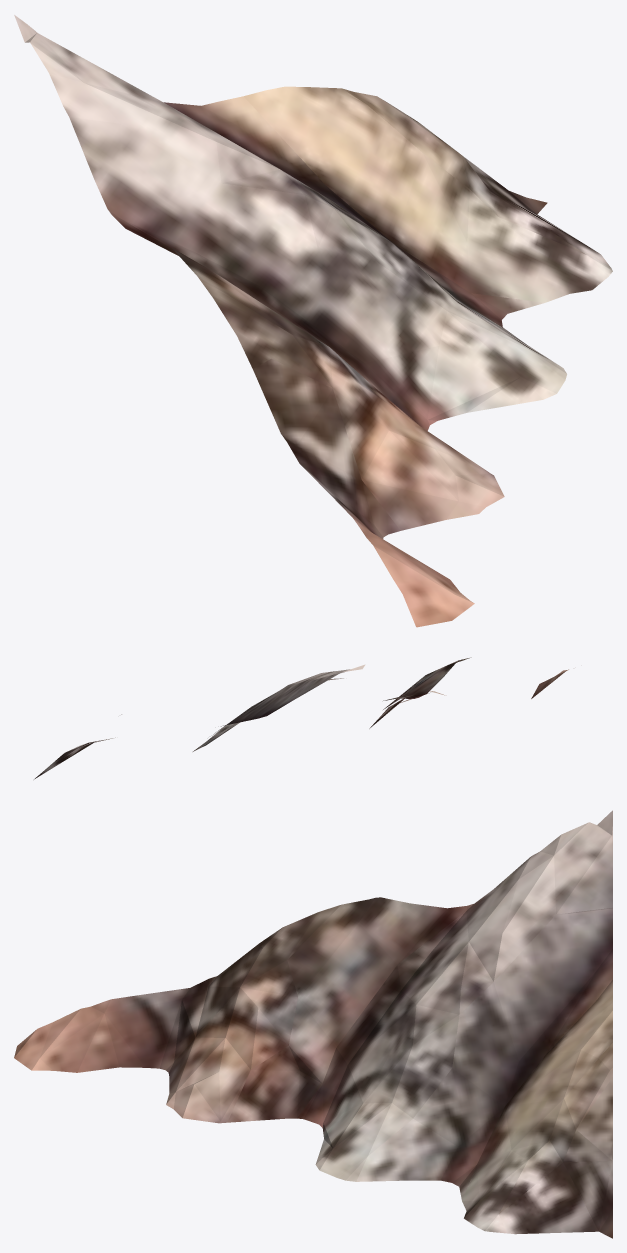
3 views of the same model, one above another, from view 1: azimuth 30°, elevation 25°; view 2: azimuth 150°, elevation 25°; view 3: azimuth 270°, elevation 25° (orthographic). The views are drawn at different scales.
Size of the model in its own units: 0.4764 by 0.2716 by 0.6251.
Materials: 1 (1 with a texture image).
